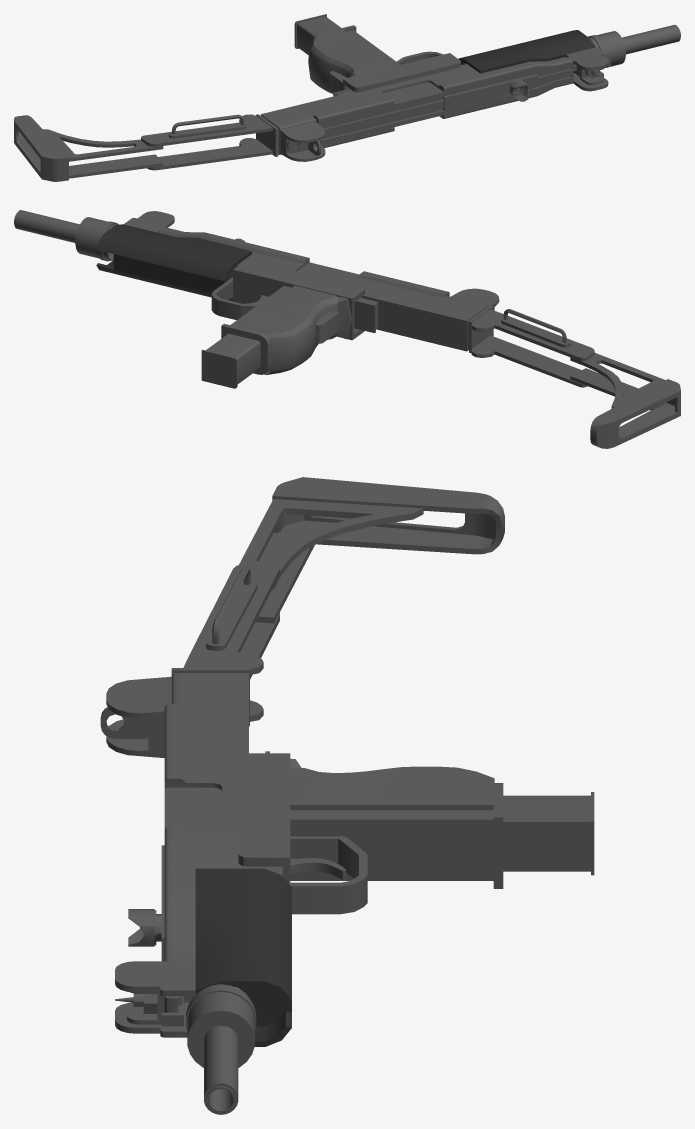
Rendered from uzi.glb.
3 views of the same model, one above another, from view 1: azimuth 30°, elevation 25°; view 2: azimuth 150°, elevation 25°; view 3: azimuth 270°, elevation 25° (orthographic). The views are drawn at different scales.
Parts seen in each view (by area): view 1: UZI; view 2: UZI; view 3: UZI.
Boxes of the visible parts, <box> form: UZI: <box>14,14,680,181</box>; UZI: <box>14,210,680,448</box>; UZI: <box>100,477,594,1114</box>.
Bounding box in the file's own units: 25.63 × 1.78 × 8.91.
Materials: 2 (2 with a texture image).
